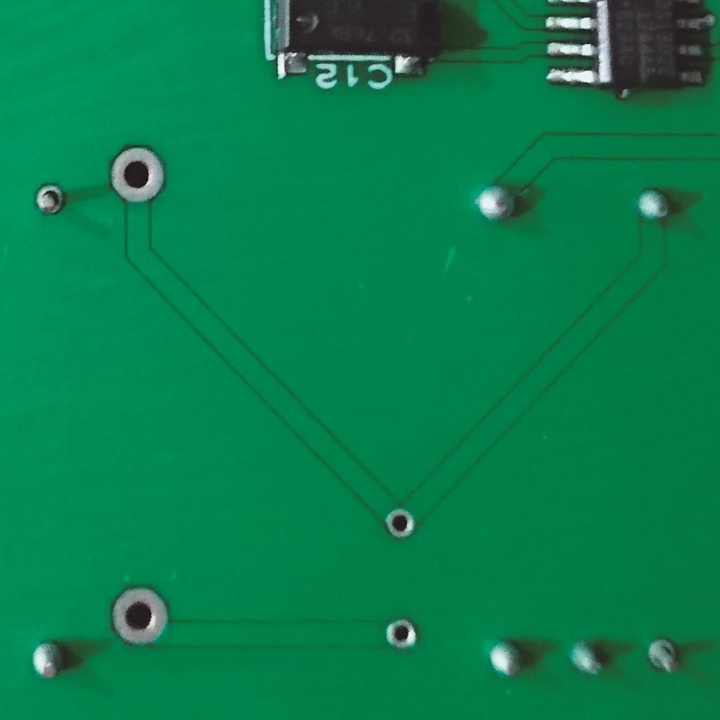F: (108, 143, 169, 208), (109, 583, 169, 649), (643, 635, 684, 682), (32, 182, 69, 221), (385, 616, 419, 652), (384, 506, 413, 542)
